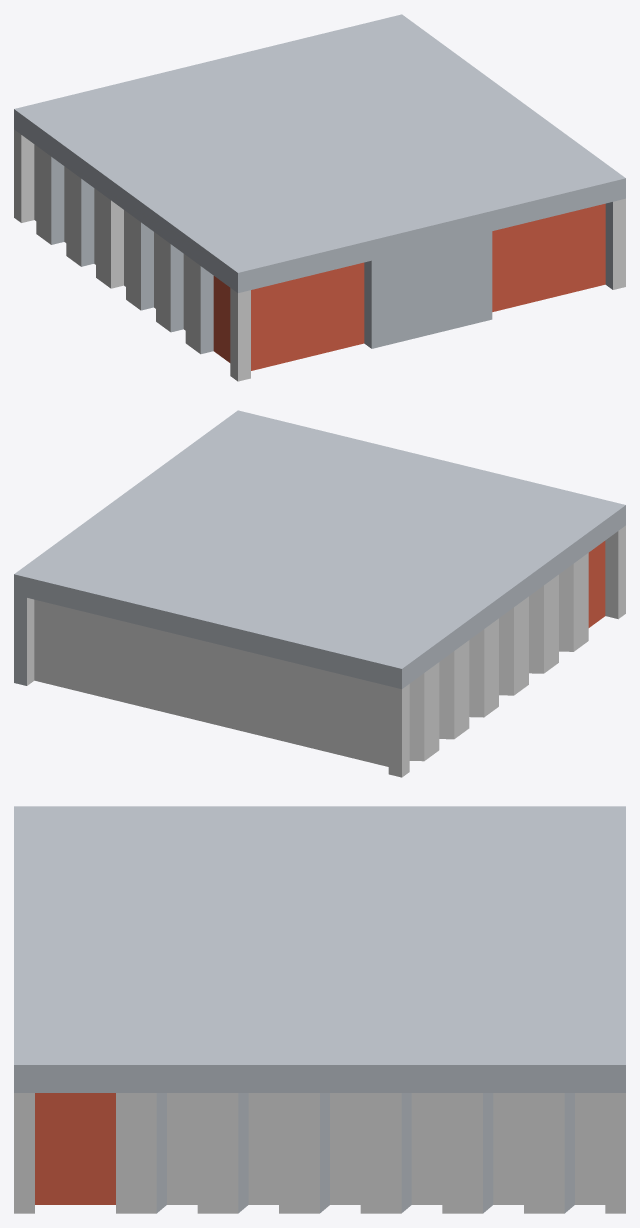
Rendered from auditorio.glb.
3 views of the same model, one above another, from view 1: azimuth 30°, elevation 25°; view 2: azimuth 150°, elevation 25°; view 3: azimuth 270°, elevation 25° (orthographic). The views are drawn at different scales.
Parts seen in each view (by area): view 1: Auditorio; view 2: Auditorio; view 3: Auditorio.
Part boxes in pixels (x1,y1,x2,y2): Auditorio: (14, 14, 625, 381); Auditorio: (14, 410, 625, 777); Auditorio: (14, 806, 625, 1213).
Bounding box in the file's own units: 29.89 × 8 × 29.88.
